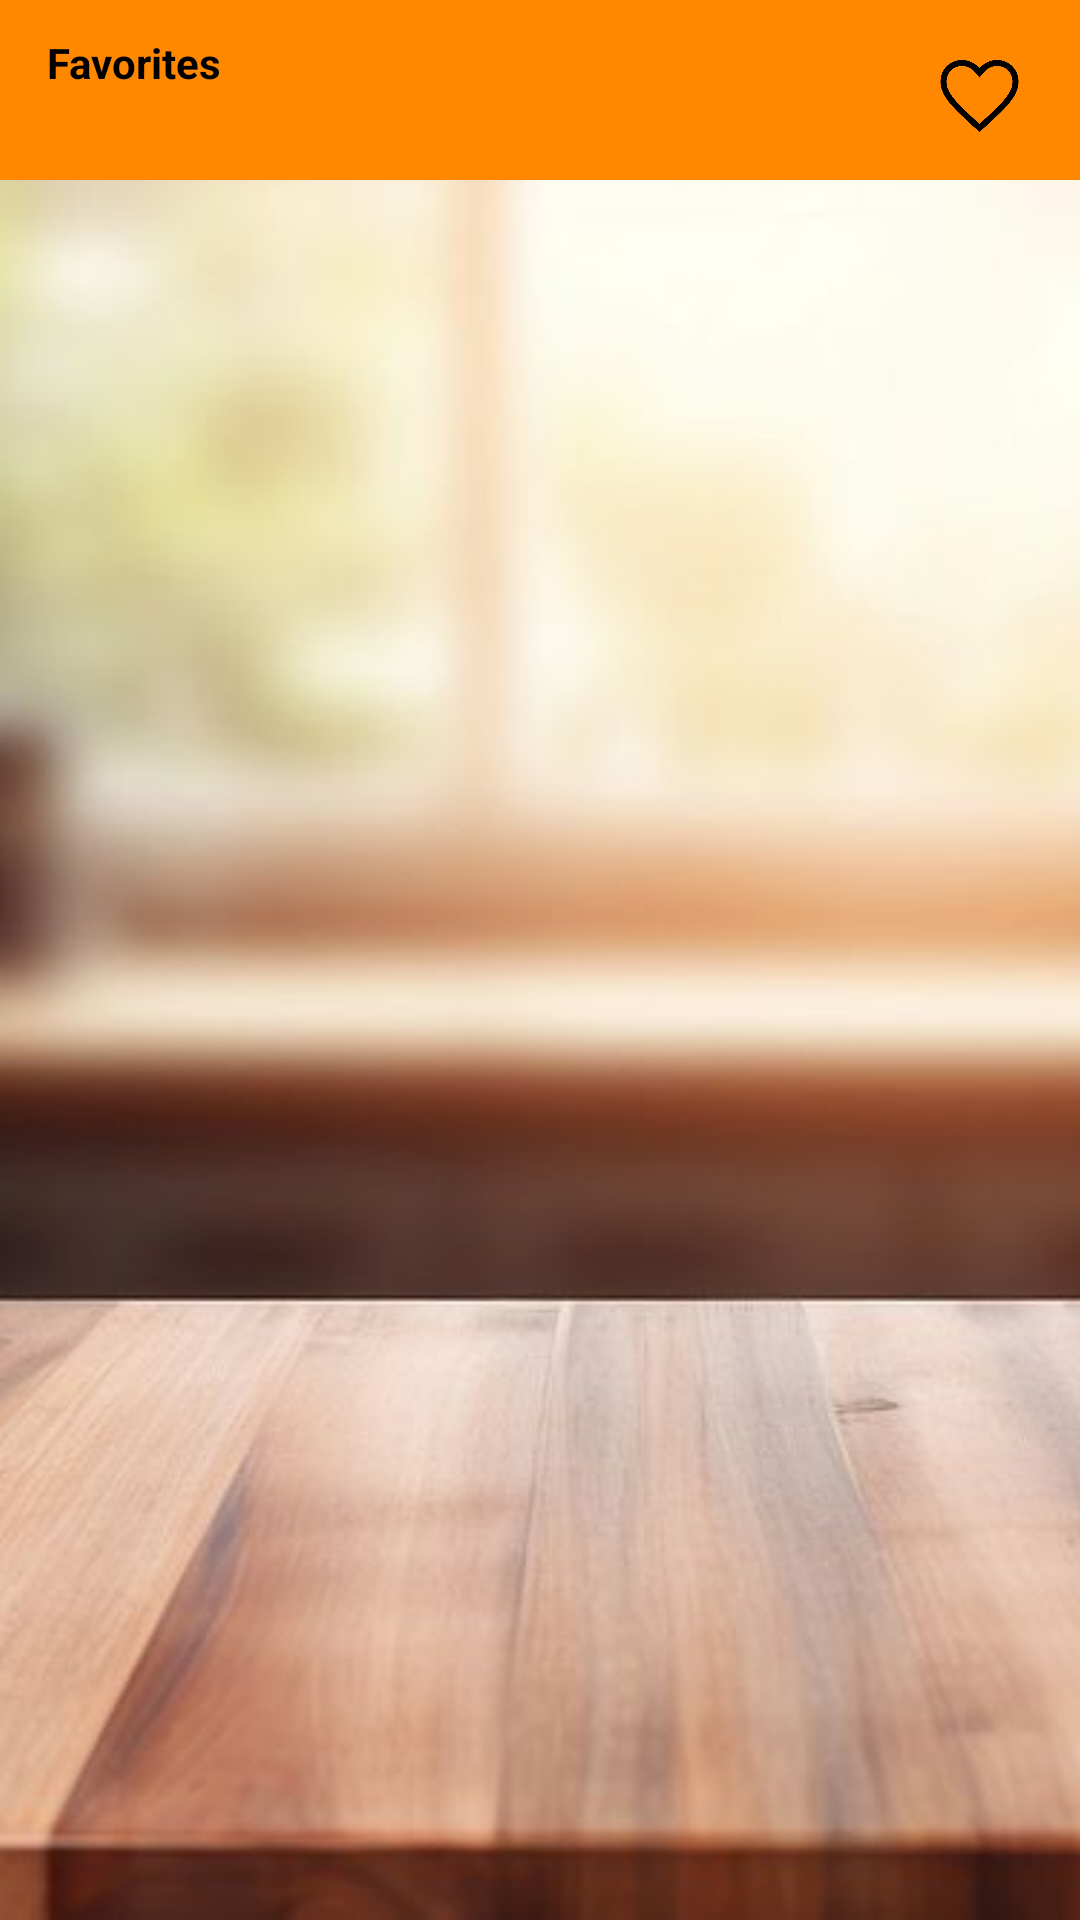

Screen size 1080×1920. Icon name, then its box in pixels as box(x1, y1, x2, y2):
favorite: box(940, 60, 1019, 132)
